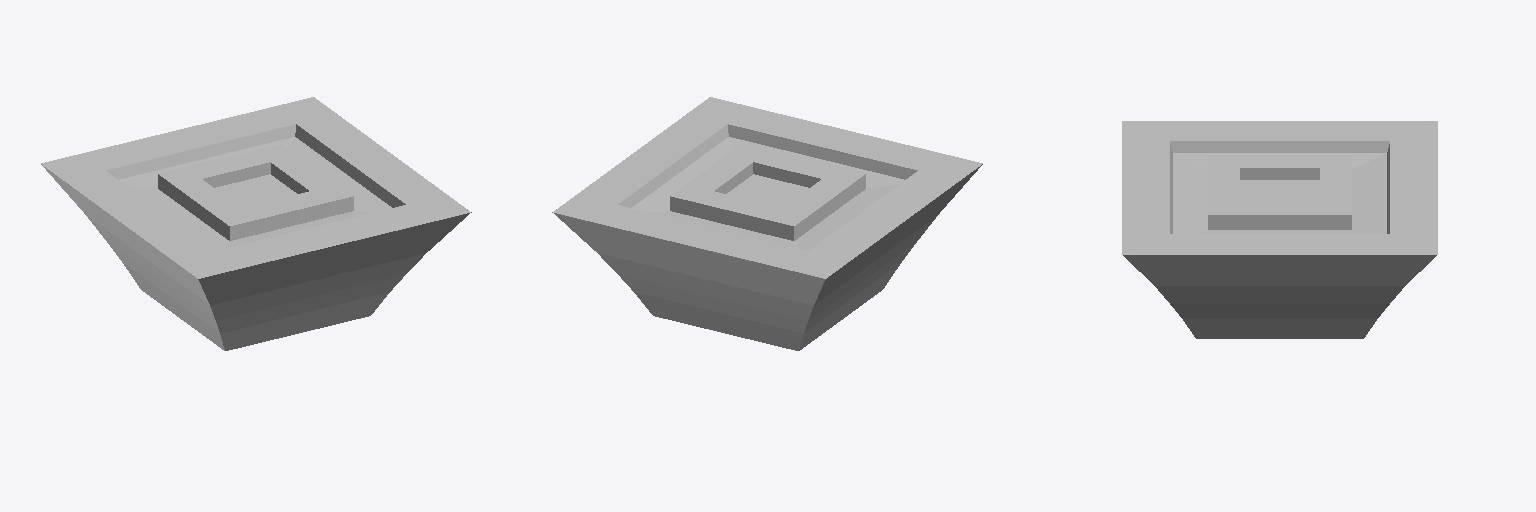
File: square2.obj
The picture shows the model from 3 angles: view 1: azimuth 30°, elevation 25°; view 2: azimuth 150°, elevation 25°; view 3: azimuth 270°, elevation 25°; orthographic projection.
Parts seen in each view (by area): view 1: Cube; view 2: Cube; view 3: Cube.
Part boxes in pixels (x1,y1,x2,y2): Cube: (41, 97, 471, 350); Cube: (552, 97, 982, 350); Cube: (1122, 121, 1437, 338).
Bounding box in the file's own units: 0.9416 × 0.4664 × 0.9416.